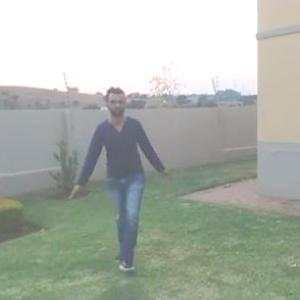land: (74, 86, 167, 278)
